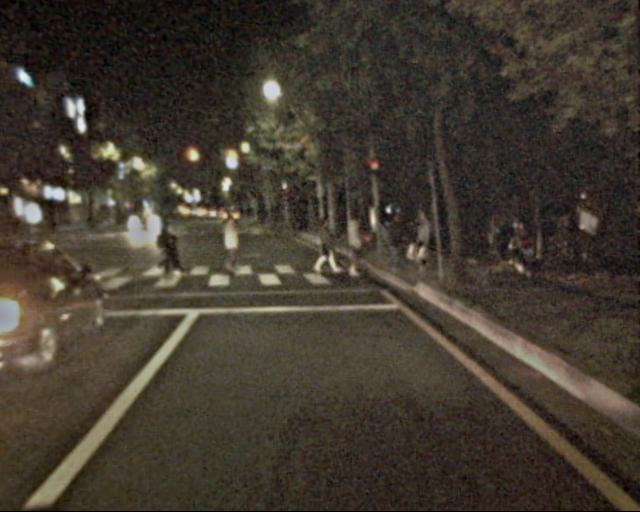person: (152, 212, 179, 279), (337, 213, 364, 279), (378, 213, 405, 278), (213, 213, 238, 275), (311, 214, 336, 276), (409, 210, 433, 269)
